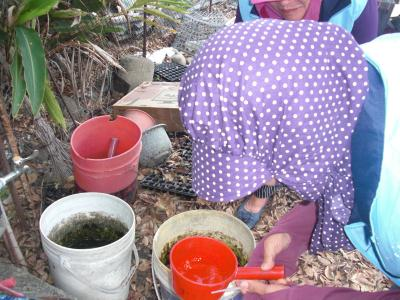bowl: (167, 234, 240, 299), (138, 123, 172, 168)
box: (154, 63, 190, 81)
bucket: (36, 189, 138, 299), (71, 114, 141, 209)
